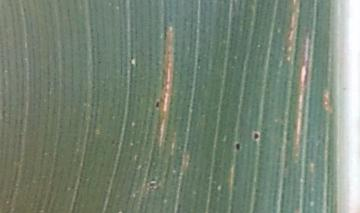tarspot: (234, 140, 241, 152), (252, 130, 259, 141), (154, 100, 160, 108)
